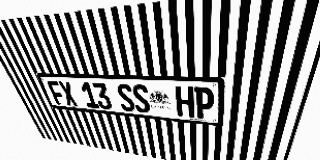1: (79, 82, 100, 108)
3: (92, 82, 113, 110)
F: (46, 81, 67, 105)
H: (175, 86, 194, 118)
P: (194, 87, 214, 119)
S: (115, 83, 136, 112), (131, 84, 151, 113)
X: (57, 81, 78, 106)
